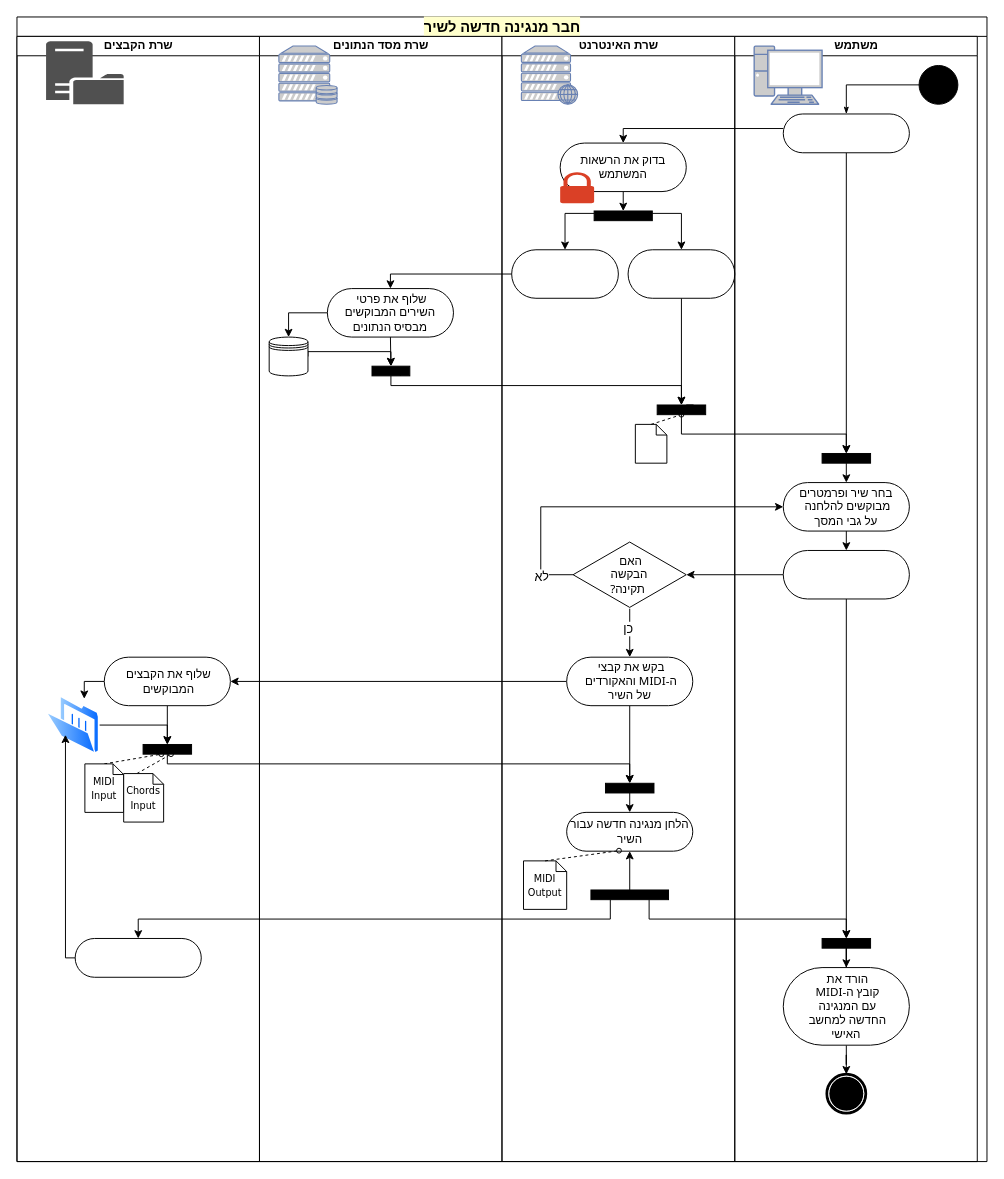
This 1004x1179 diagram has some shape labels left out. Each missing label, with the centre of its shape:
"End" goes at (846,1093).
"HTML" goes at (650,443).
"Start" goes at (938,84).
"אחזר נתוני-אב ונתונים נלווים עבור הדף המבוקש" goes at (681,273).
"בקש את השירים אליהם המשתמש מורשה" goes at (564,273).
"בקש לנווט למסך 'חבר מנגינה'" goes at (845,133).
"שגר את בקשת ההלחנה לשרת" goes at (845,574).
"שמור עותק על פלט ה-MIDI על השרת" goes at (137,957).
